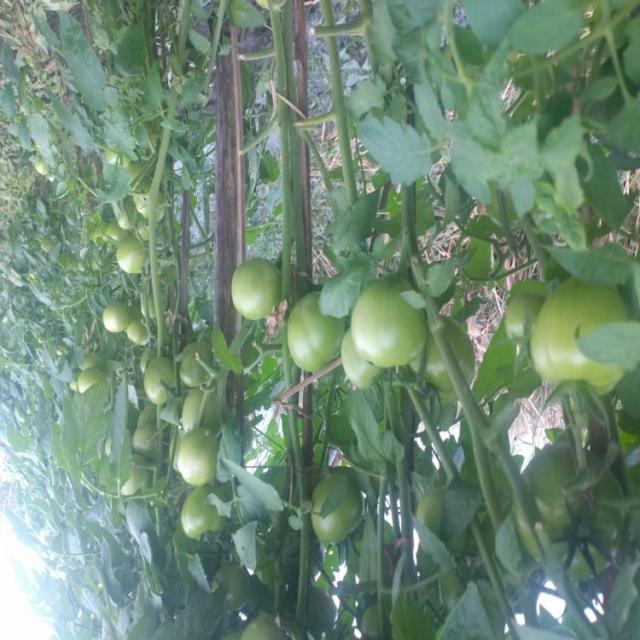tomato: (516, 449, 632, 586), (523, 268, 635, 402), (302, 459, 381, 549), (346, 282, 421, 371), (274, 287, 345, 364), (216, 249, 269, 317), (505, 280, 555, 350), (177, 374, 233, 435), (102, 241, 149, 299), (138, 346, 179, 411), (175, 341, 219, 394), (172, 429, 218, 475), (175, 495, 213, 544), (336, 338, 369, 392), (114, 311, 145, 352), (91, 307, 124, 340), (129, 186, 154, 220)
